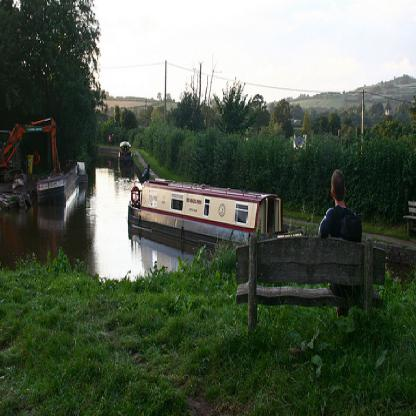backpack: (339, 214, 362, 244)
